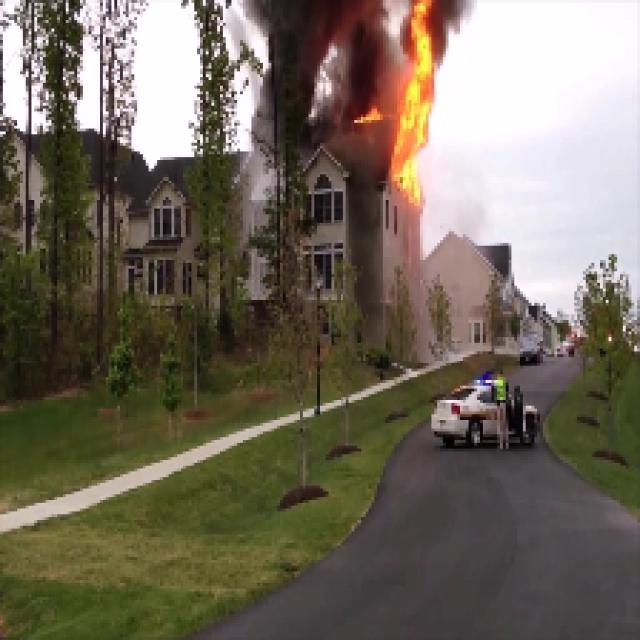fire: (401, 8, 436, 202)
smoke: (272, 4, 386, 121)
